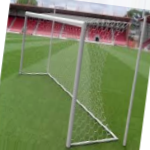goals: (19, 9, 121, 148)
